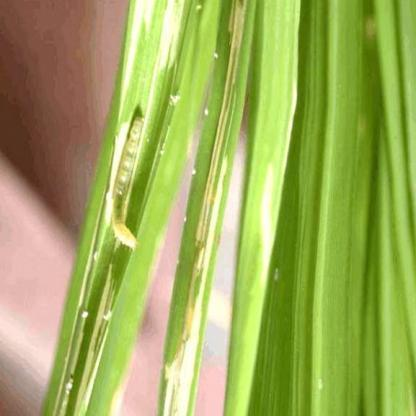leaf-folder: (111, 82, 145, 240)
